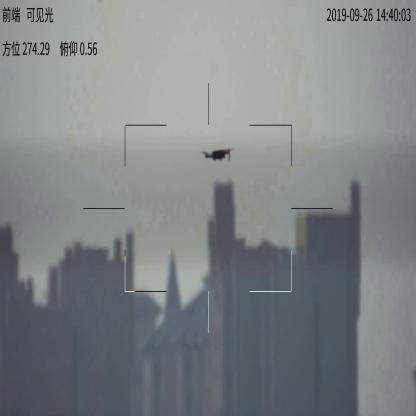uav: (198, 147, 235, 163)
